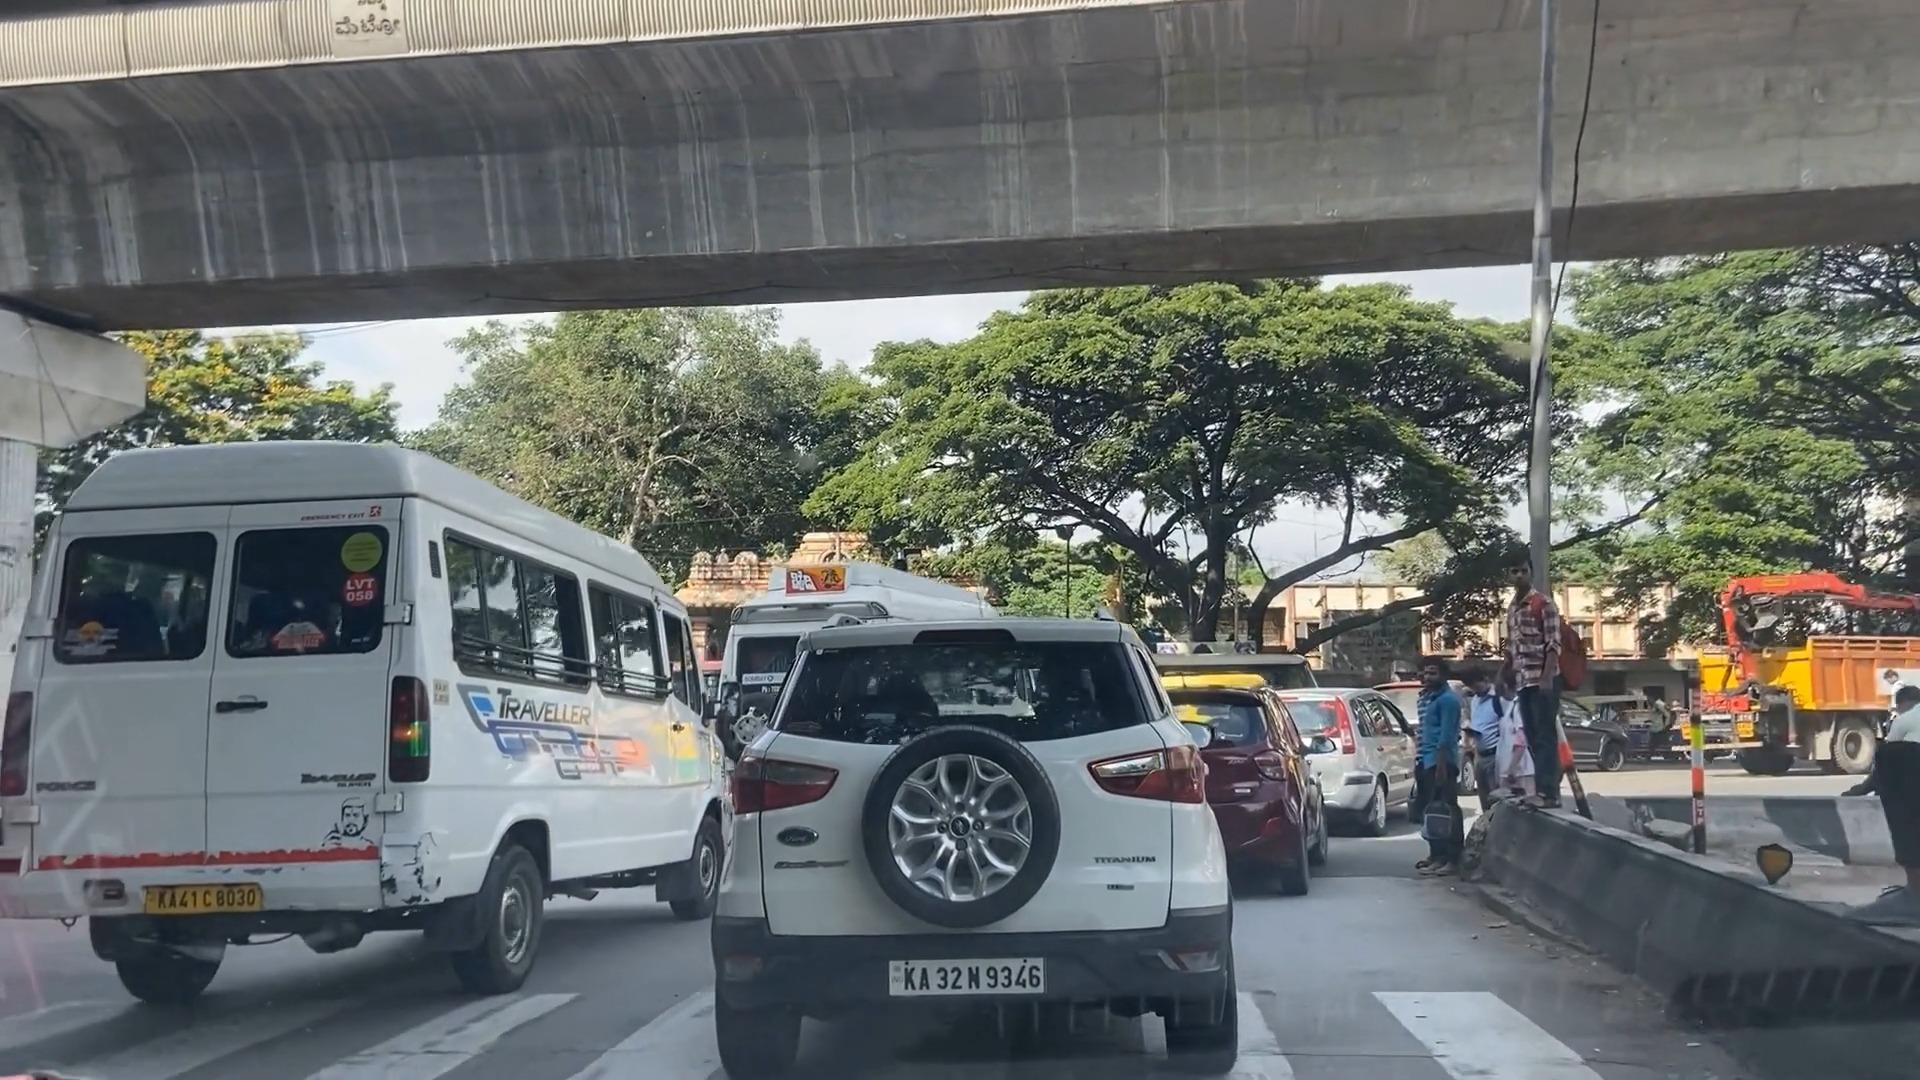HMV: (36, 465, 736, 1025)
LMV: (720, 608, 1229, 1080)
